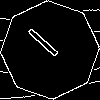I: (25, 25, 68, 66)
